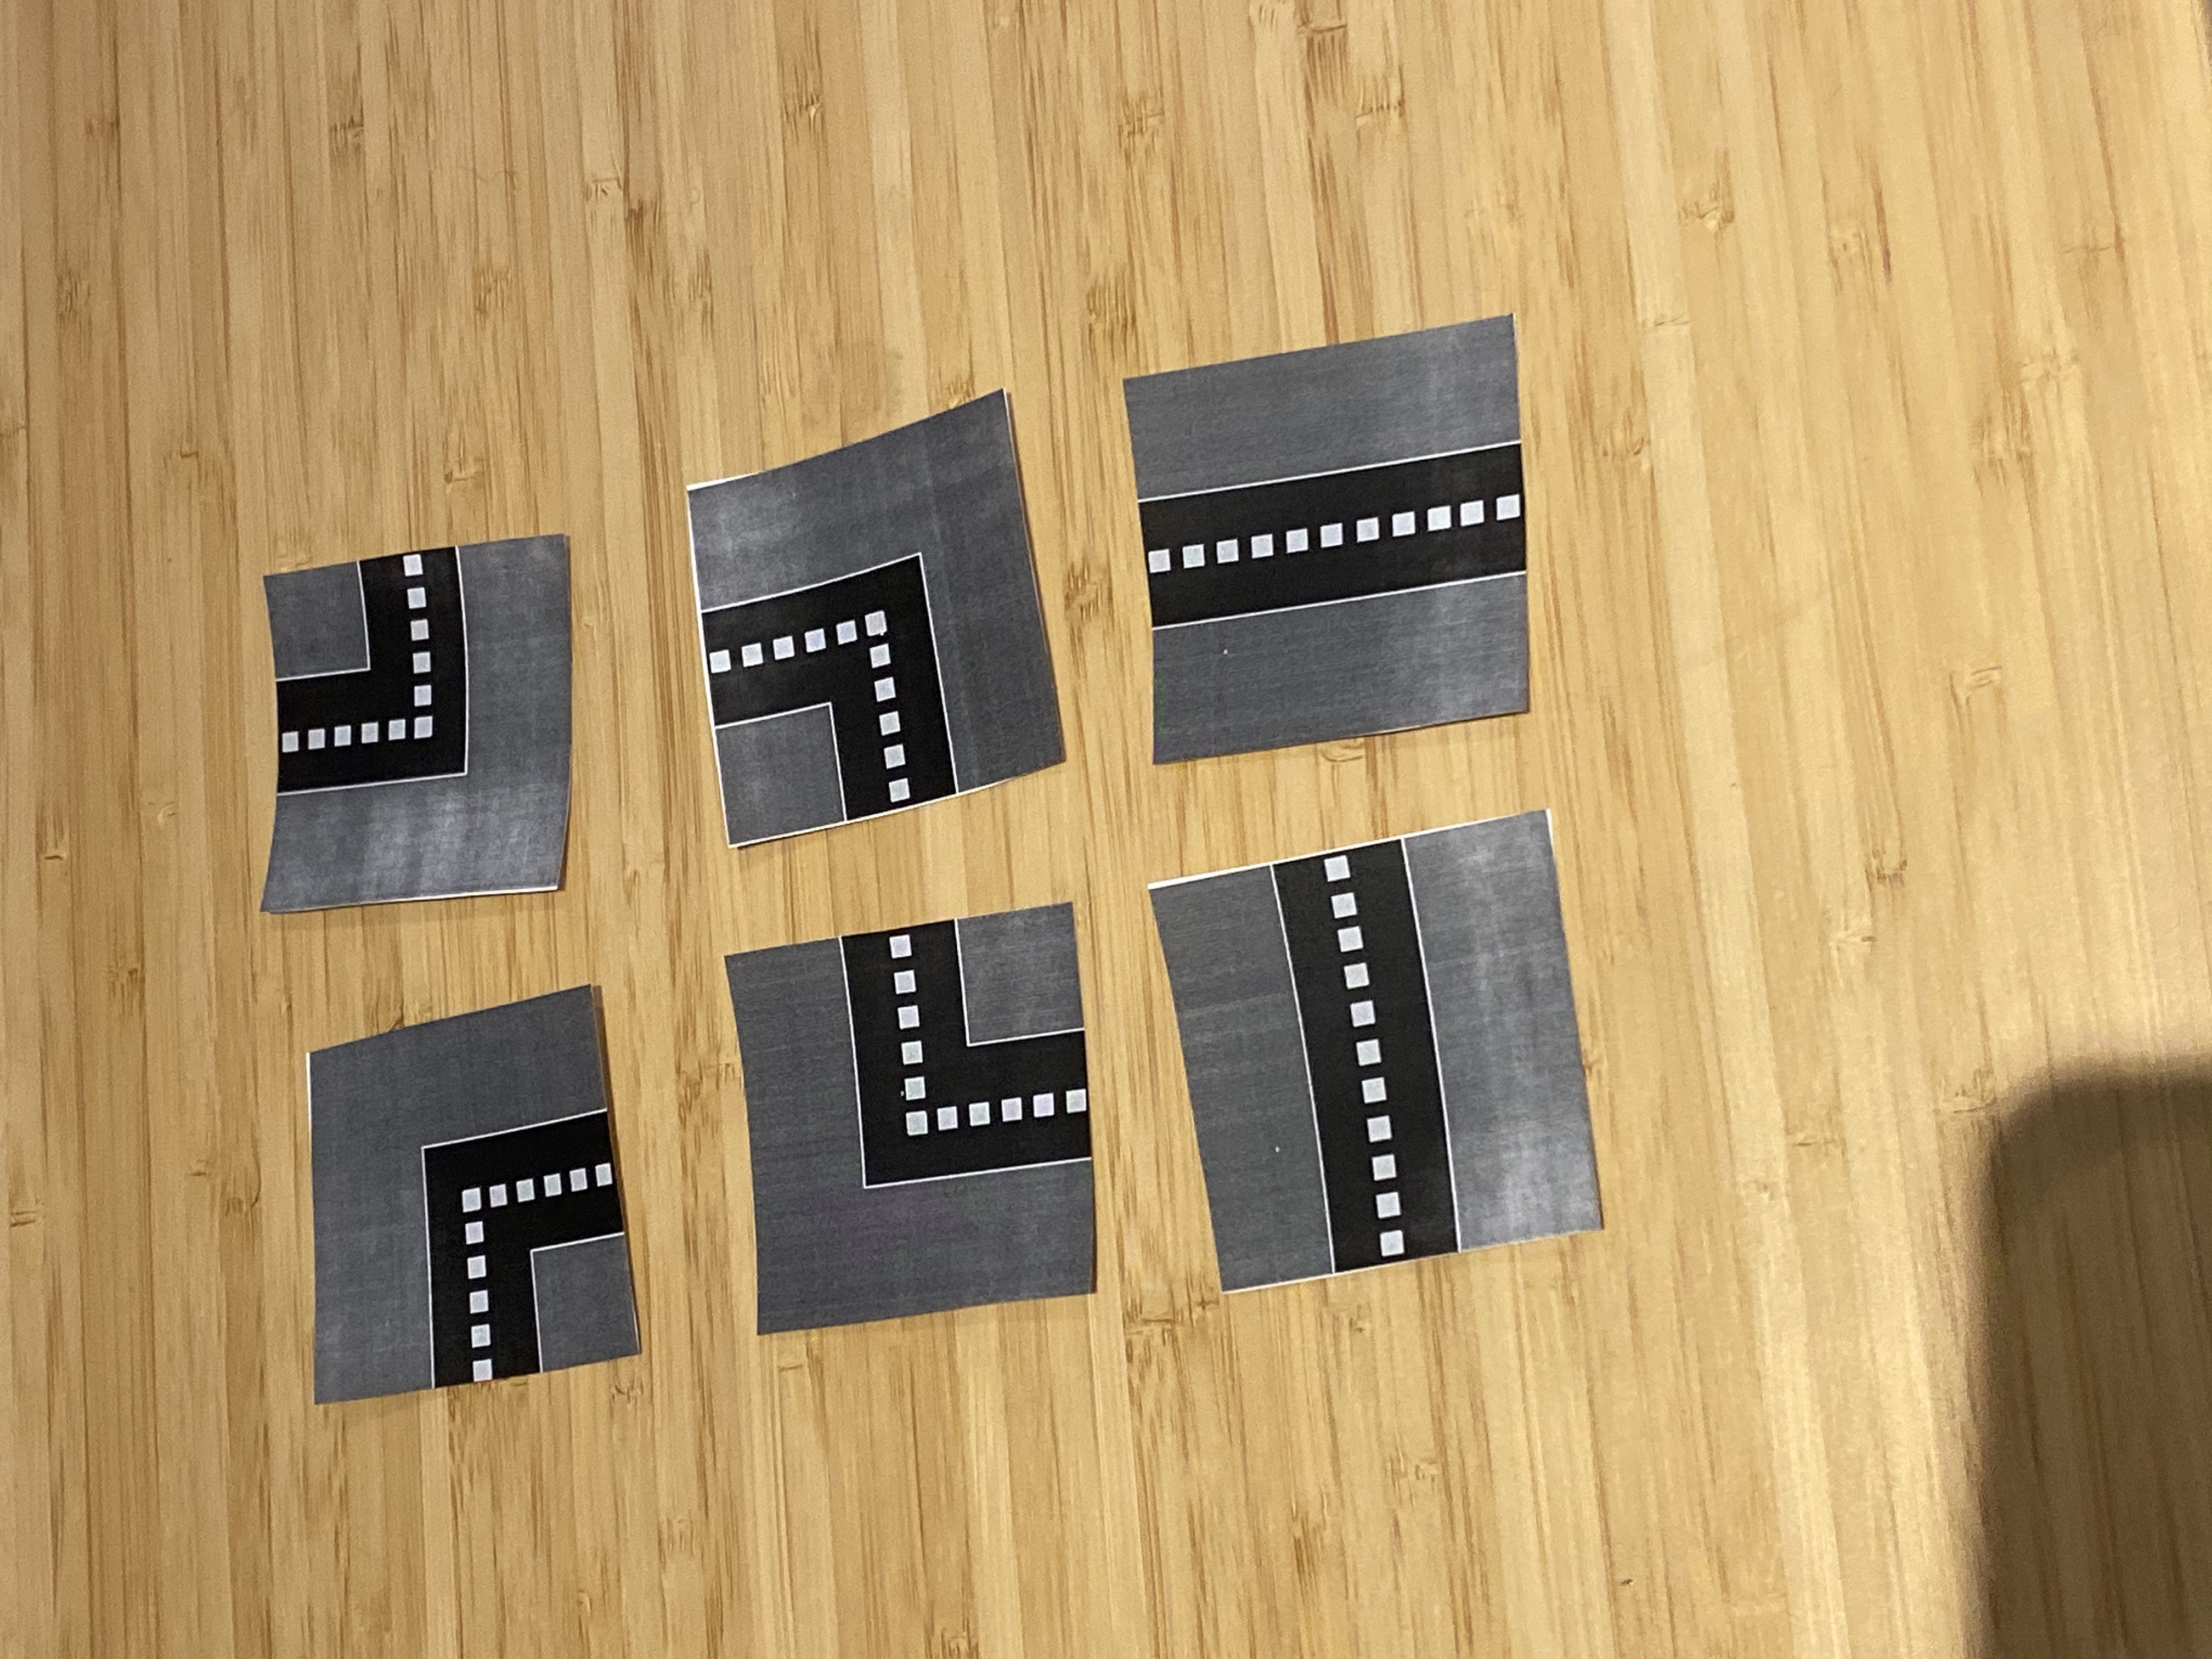down-left: (686, 390, 1069, 843)
right-down: (294, 983, 646, 1398)
right-left: (1122, 308, 1536, 755)
up-down: (1150, 809, 1606, 1281)
up-left: (258, 533, 577, 913)
up-right: (723, 894, 1097, 1333)
